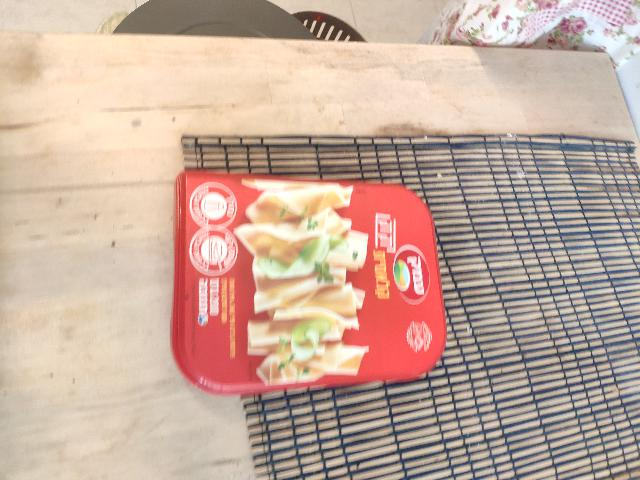cheese: (332, 193, 539, 480)
